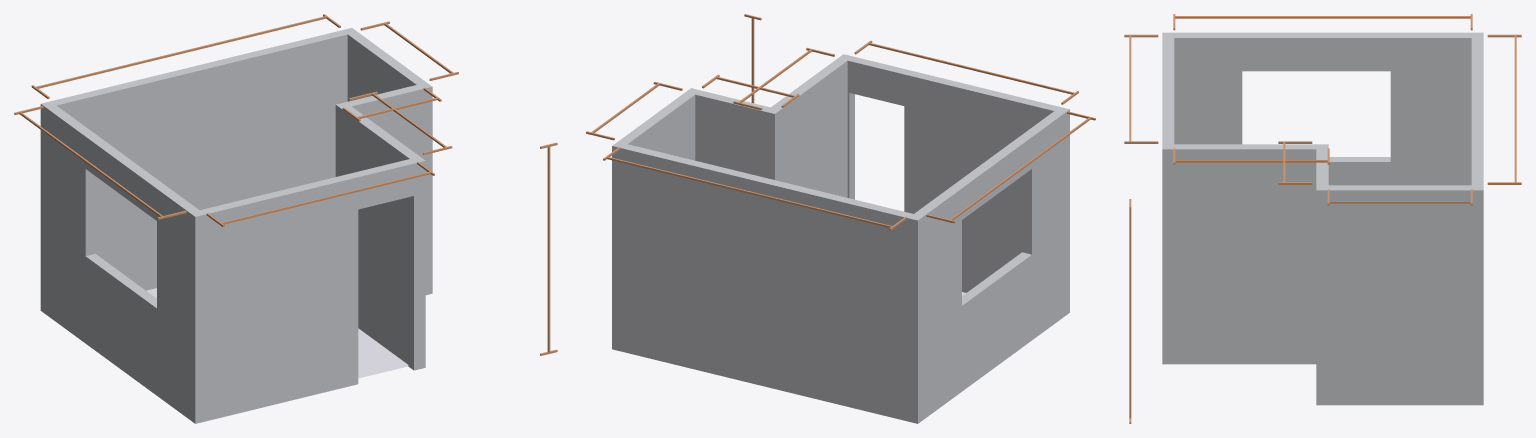
File: room-bedroom2.glb
3 renders of one model, left to right at view 1: azimuth 30°, elevation 25°; view 2: azimuth 150°, elevation 25°; view 3: azimuth 270°, elevation 25°, orthographic. The views are drawn at different scales.
Visible parts, largest first — view 1: bedroom2; view 2: bedroom2; view 3: bedroom2.
Boxes of the visible parts, x1,y1,x2,y2 form: bedroom2: (14, 14, 557, 423); bedroom2: (586, 14, 1095, 423); bedroom2: (1124, 14, 1521, 423).
Size of the model in its own units: 4.53 by 2.41 by 3.97.
